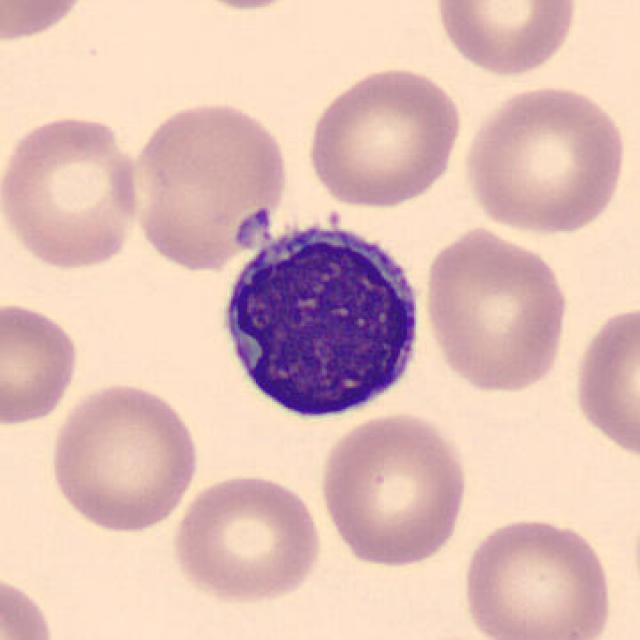Lymphocyte: (208, 206, 432, 428)
RBC: (124, 95, 294, 272), (459, 79, 631, 238), (420, 224, 572, 397), (315, 409, 473, 570), (44, 378, 202, 534), (302, 62, 466, 210), (0, 108, 146, 273), (167, 469, 325, 606), (457, 513, 615, 640), (430, 0, 583, 79), (569, 298, 640, 465), (0, 298, 84, 428), (0, 0, 94, 46), (0, 569, 60, 639), (170, 0, 314, 14)
